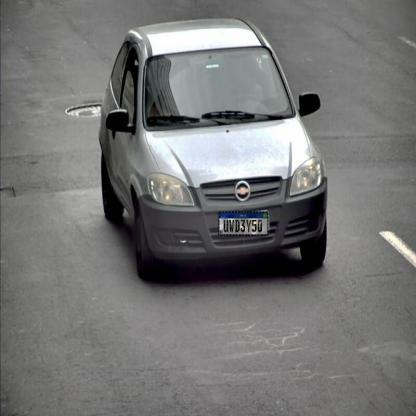PlacaM: (218, 211, 268, 236)
